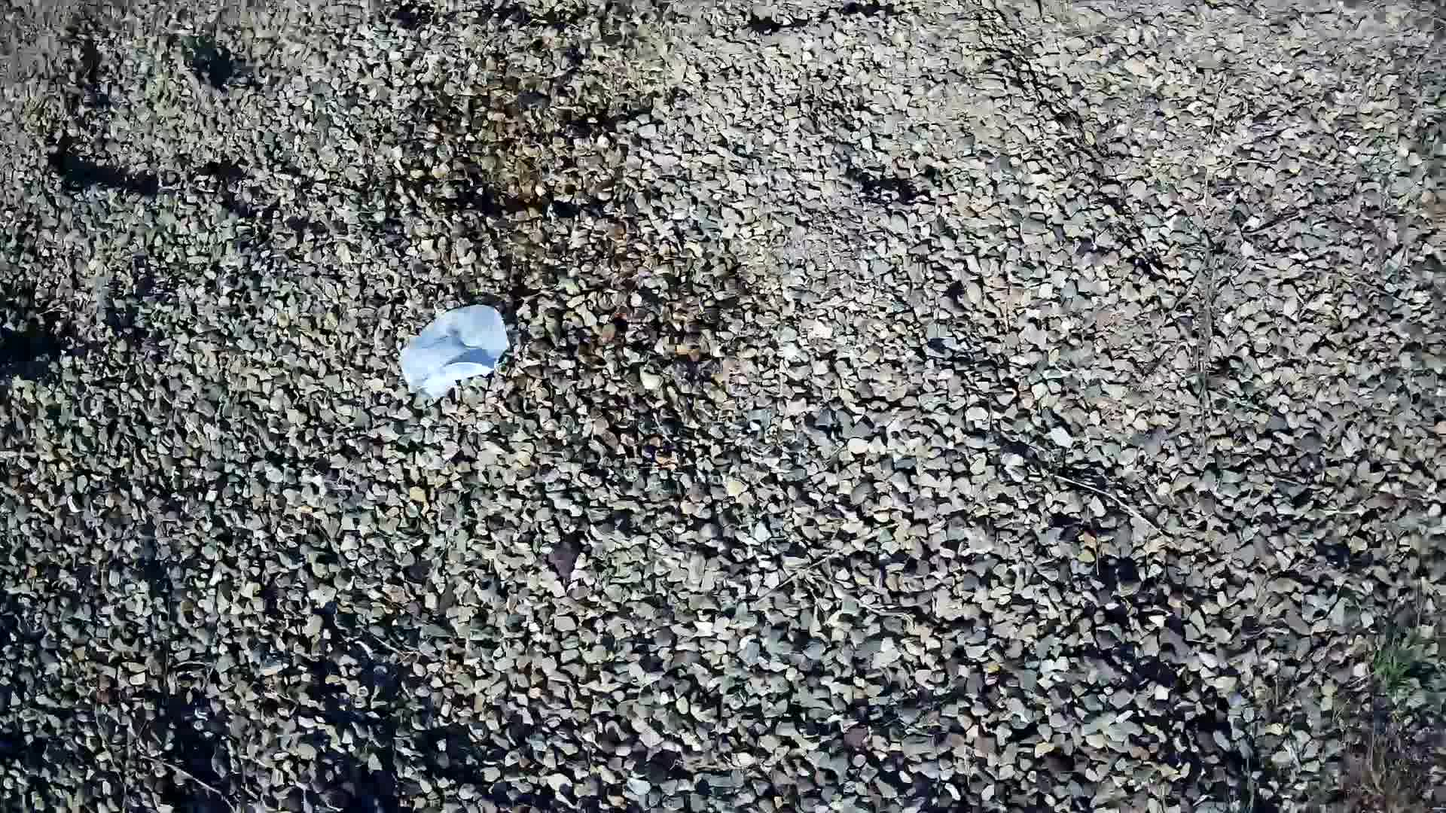Target: (400, 305, 511, 388)
